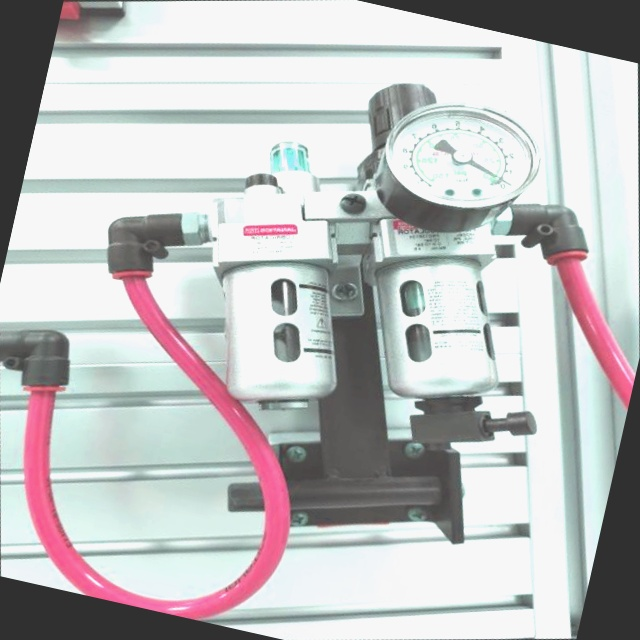FRL unit: (27, 0, 640, 640)
push button: (345, 62, 573, 268)
